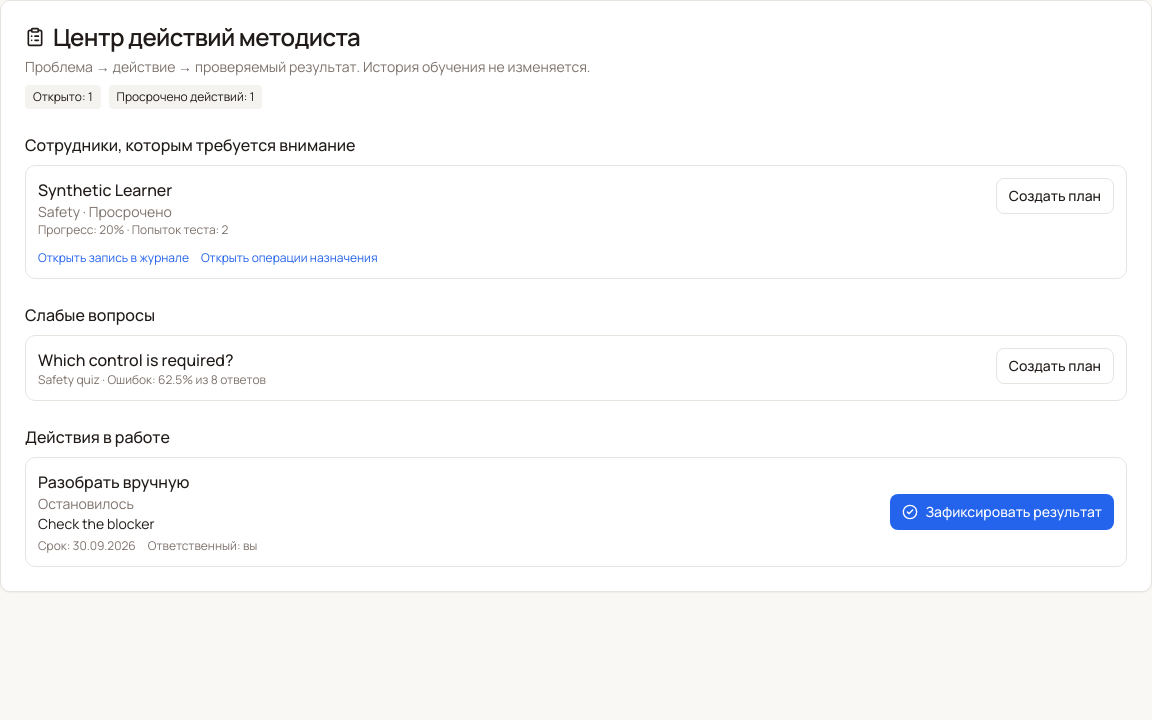
Test: learning action center › keeps the form open and shows a recoverable error when saving fails
This screenshot has width=1152, height=720.
Expected: the text "Synthetic Learner" is shown, [38, 179, 172, 201]
Click the button "Создать план" in the row of "Synthetic Learner".
click(1055, 196)  # box [996, 178, 1114, 214]
(page scrolled)
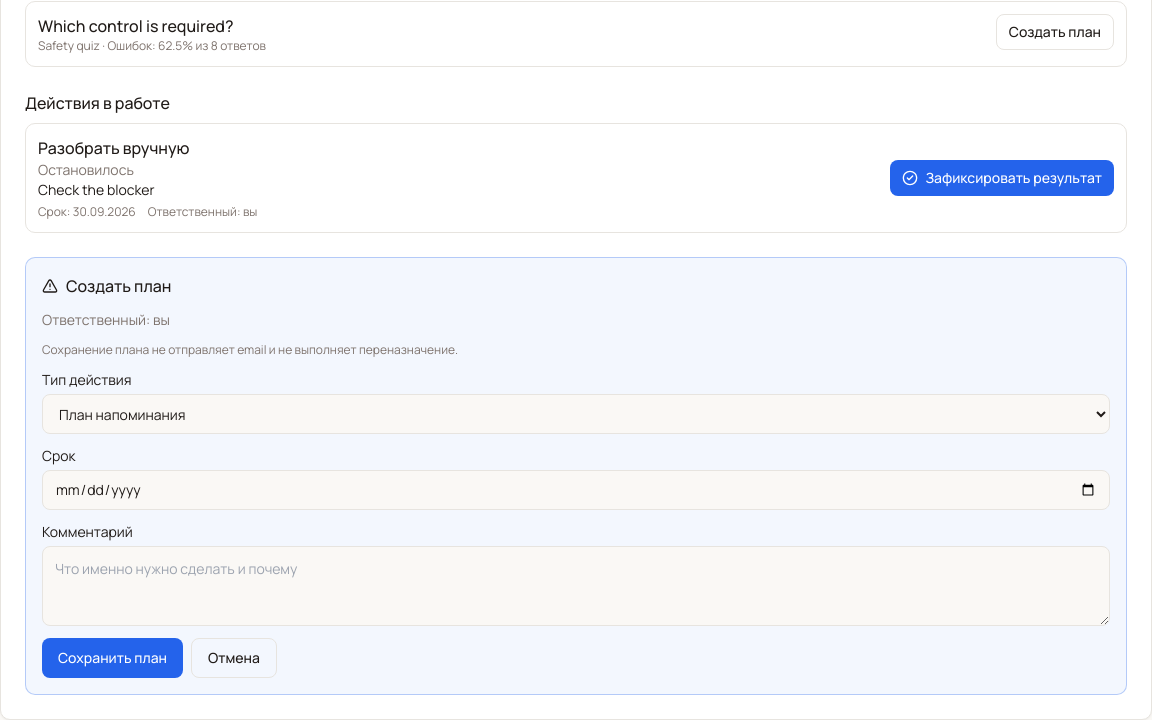
Click the button "Сохранить план".
click(112, 658)  # box [42, 638, 183, 678]
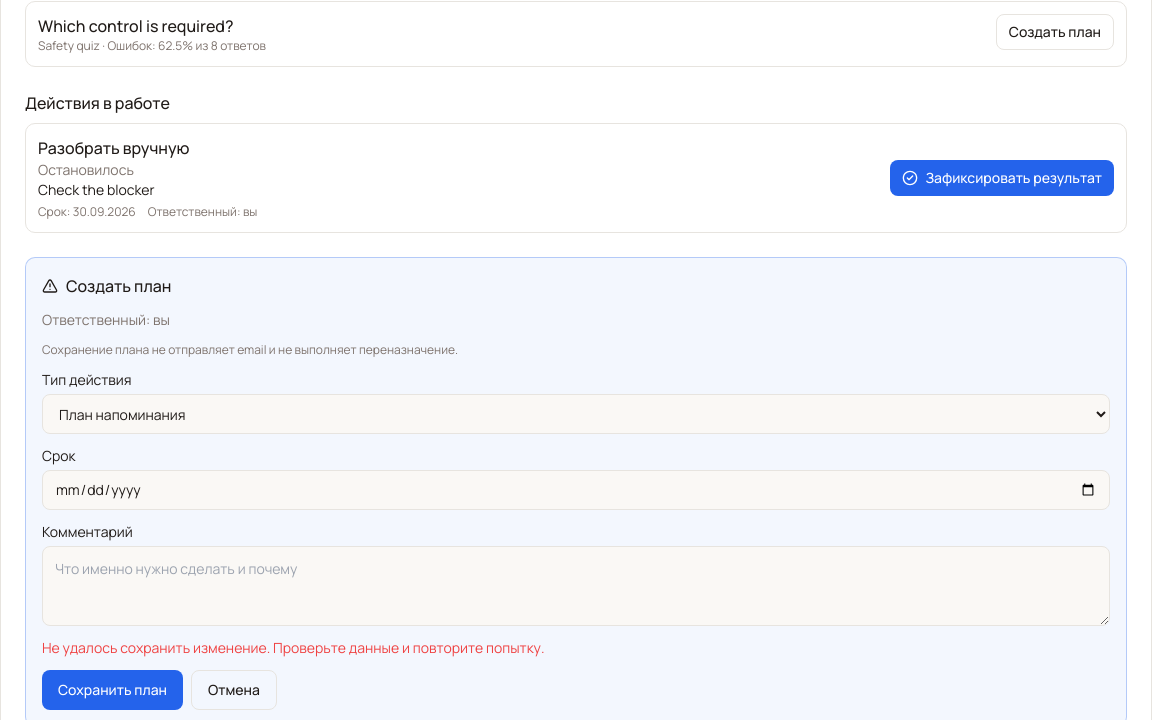
Expected: the button "Сохранить план" is shown, [42, 670, 183, 710]
Expected: the message reads "Не удалось сохранить изменение. Проверьте данные и повторите попытку.", [42, 638, 545, 657]
